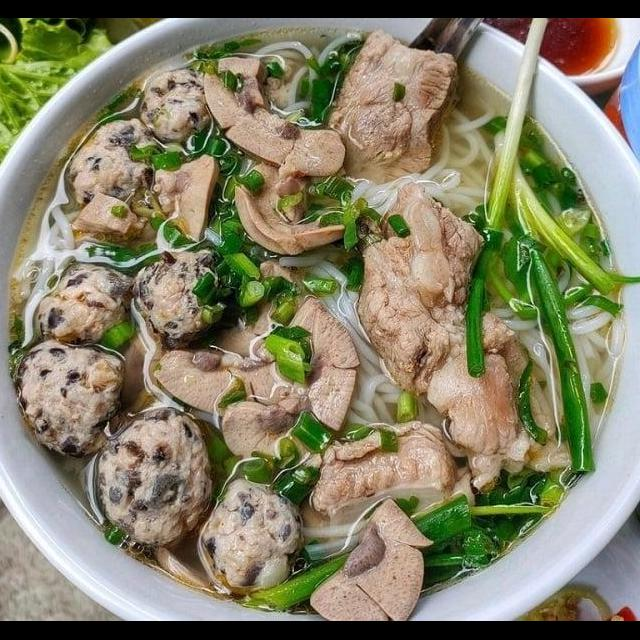bun: (279, 246, 433, 429), (338, 110, 501, 220), (495, 286, 632, 382)
bun moc: (0, 60, 640, 617)
thit heo: (322, 25, 467, 196)
vien moc: (86, 404, 229, 558), (184, 476, 319, 602), (5, 336, 133, 462), (27, 256, 145, 358), (61, 115, 171, 214), (124, 242, 226, 346), (138, 66, 220, 150)
